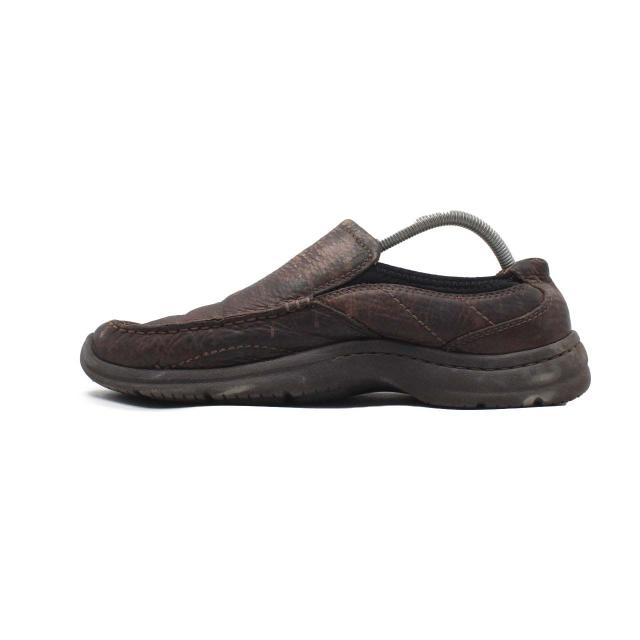heel: (476, 257, 571, 357)
midsole: (79, 330, 591, 410)
uppersole: (92, 219, 480, 369)
